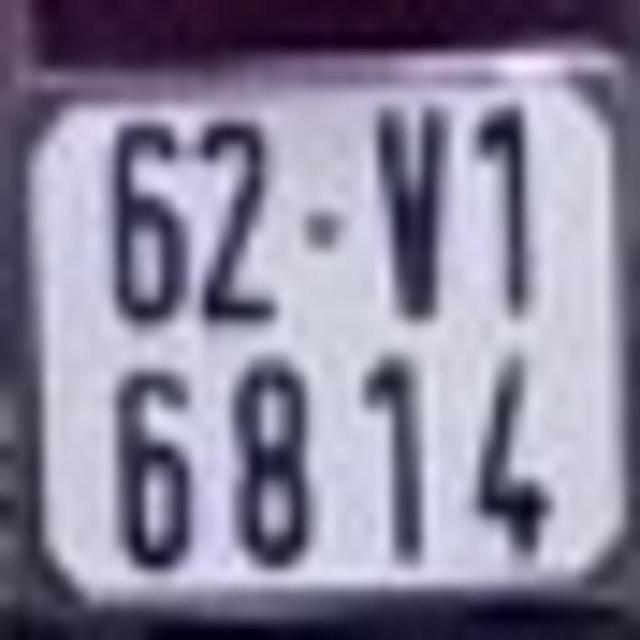1: (356, 348, 424, 559), (471, 103, 533, 312)
2: (202, 120, 279, 318)
4: (475, 356, 552, 559)
6: (116, 369, 190, 569), (116, 120, 184, 317)
8: (230, 355, 308, 560)
V: (375, 105, 446, 314)
